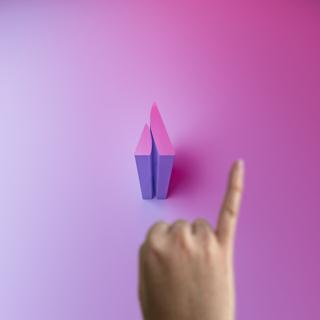Fine: (130, 148, 255, 314)
